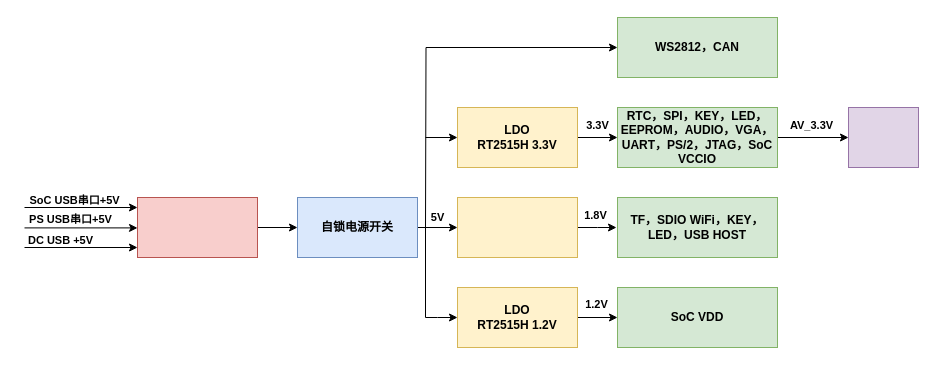
Some shapes in this 936 by 365 pixel diagram are drawn without their labels. Each missing label, with the box of its shape:
LDO RT2515H 1.8V: (456, 196, 578, 258)
PLLIO: (848, 106, 918, 168)
电源选择开关: (136, 196, 258, 258)
